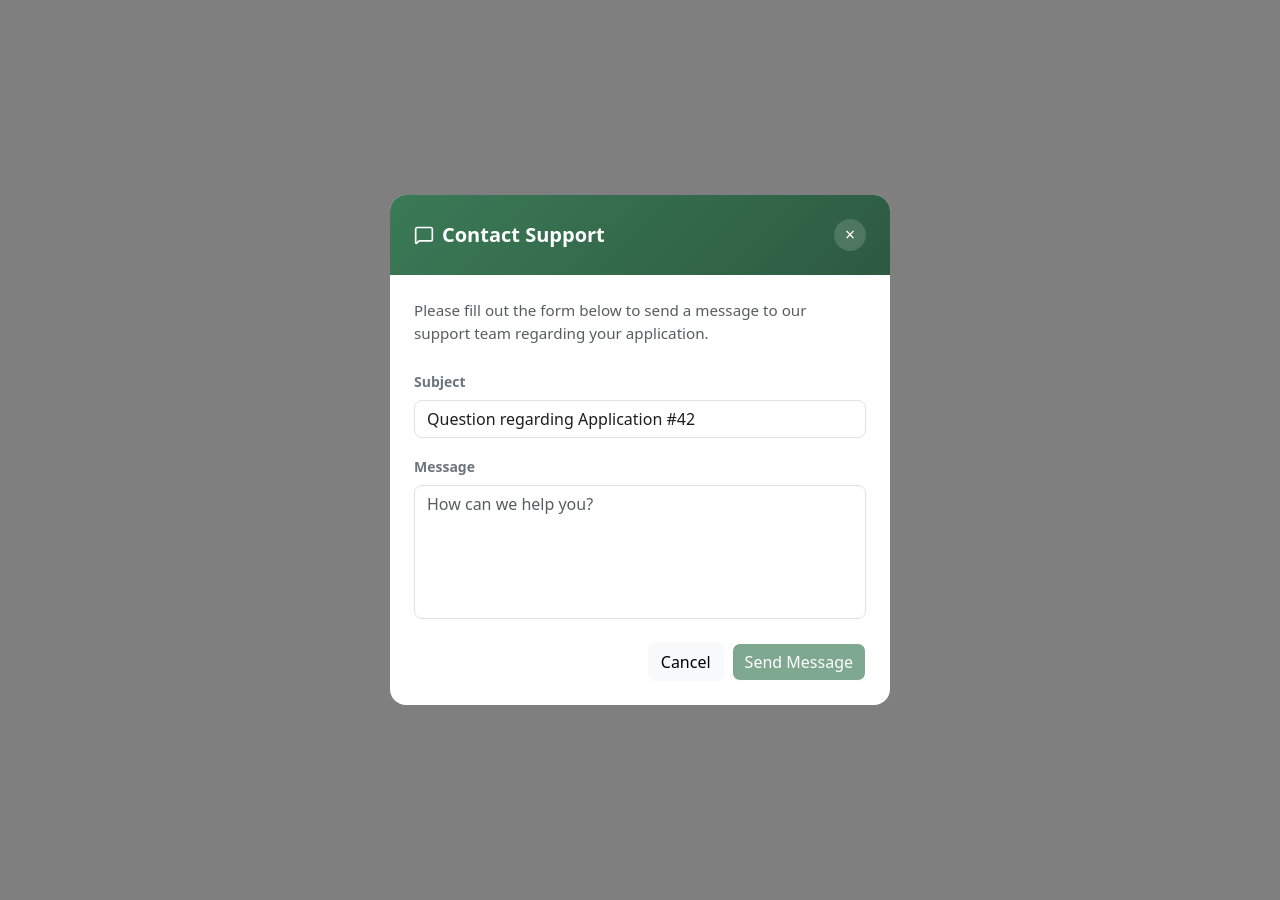
Test case: ContactSupportModal › sending message shown to users while request in progress
Type "Help" into the text box labelled "Message".
click(640, 552); type("Help")  # box x1=414 y1=485 x2=866 y2=619
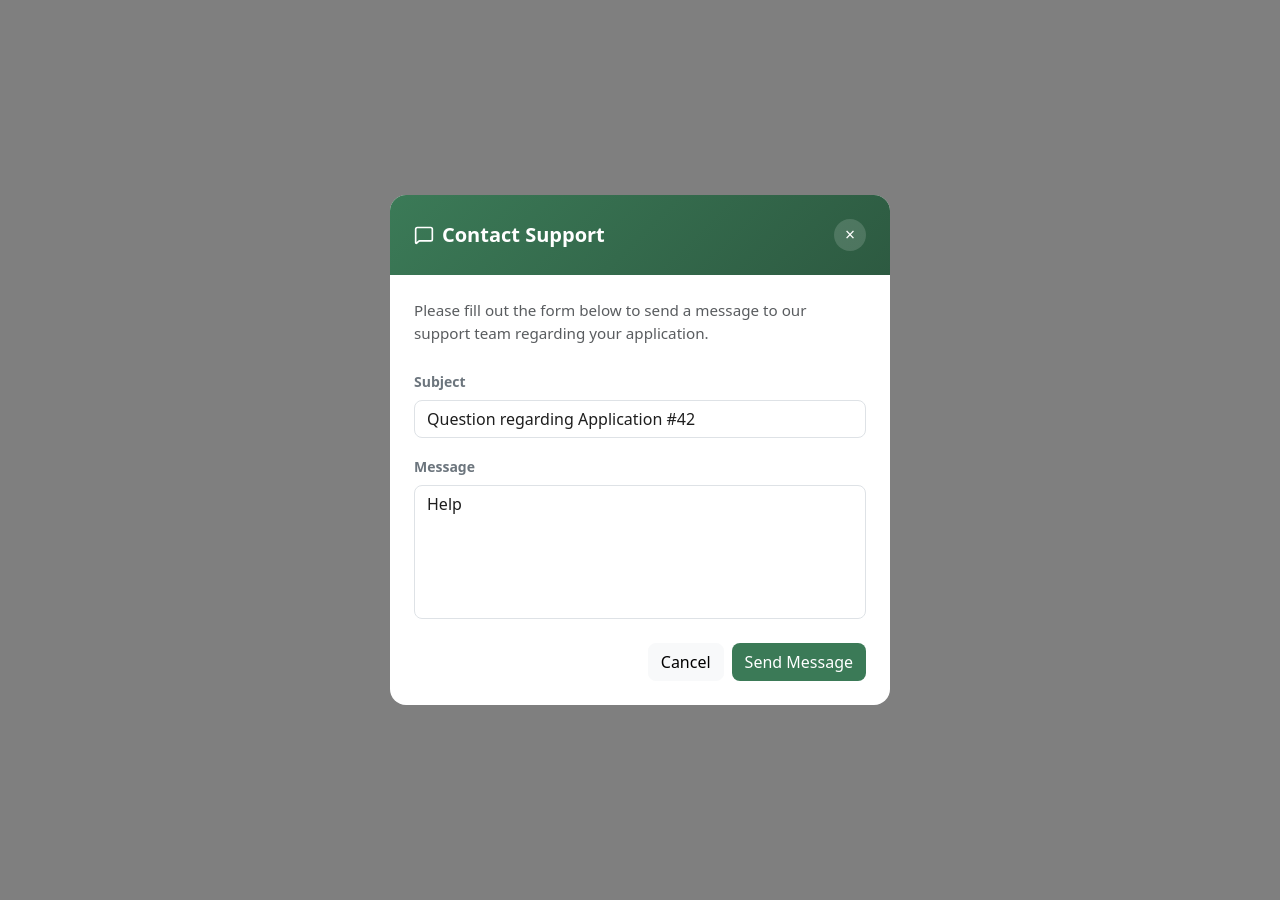
Click the button "Send Message".
click(799, 662)  # box x1=732 y1=643 x2=866 y2=681
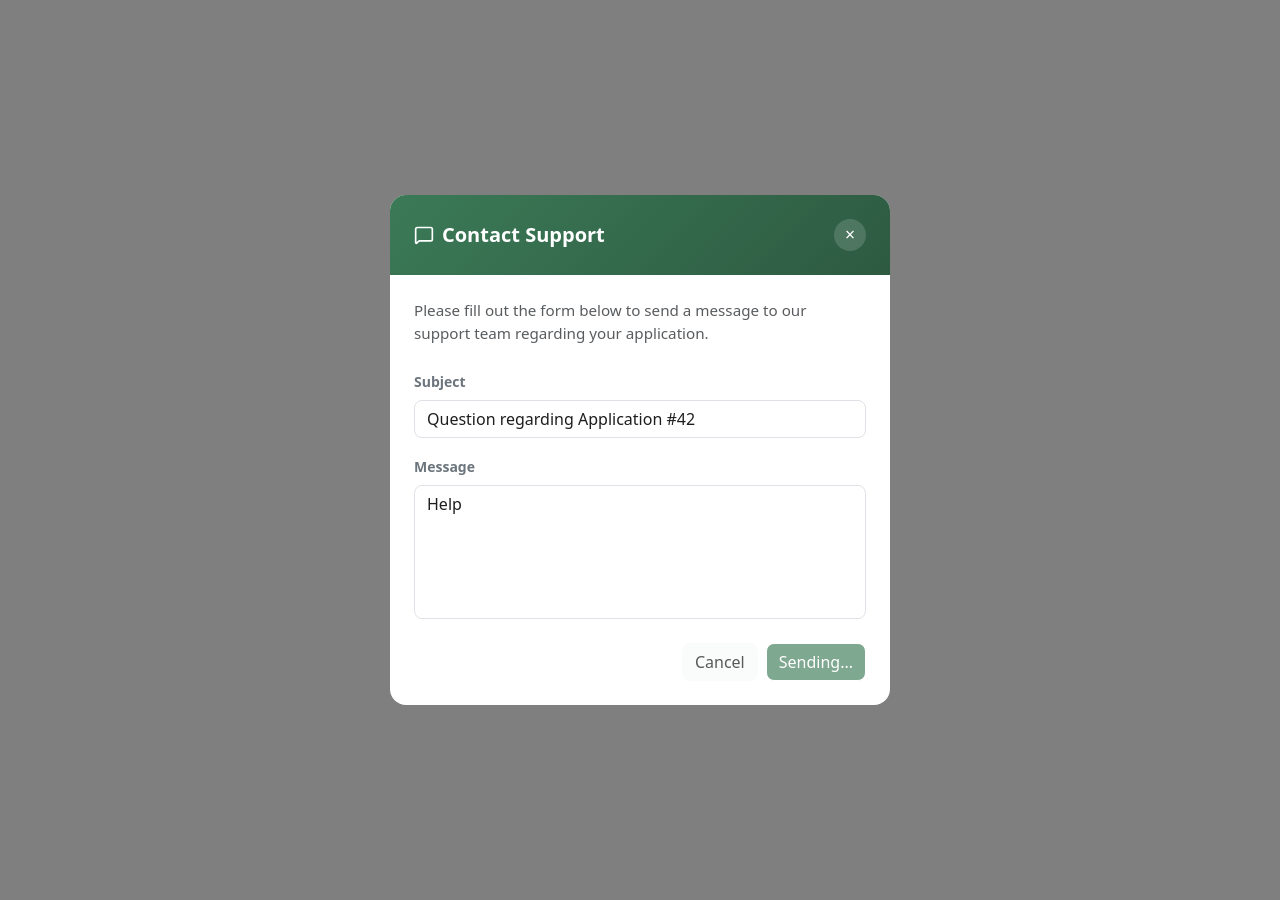
Result: the button "Sending..." is shown at x1=766 y1=643 x2=866 y2=681
Result: the button "Cancel" is disabled at x1=682 y1=643 x2=758 y2=681
